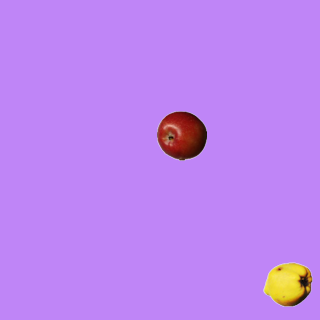Apple Braeburn: (156, 110, 206, 160)
Quince: (262, 259, 312, 309)
